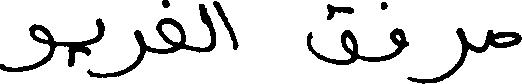X: (308, 0, 356, 69), (0, 19, 54, 76), (423, 23, 466, 83), (156, 0, 185, 58), (121, 25, 143, 79), (216, 0, 237, 54), (488, 25, 521, 52), (199, 0, 214, 57), (390, 23, 405, 63), (96, 13, 102, 82)
